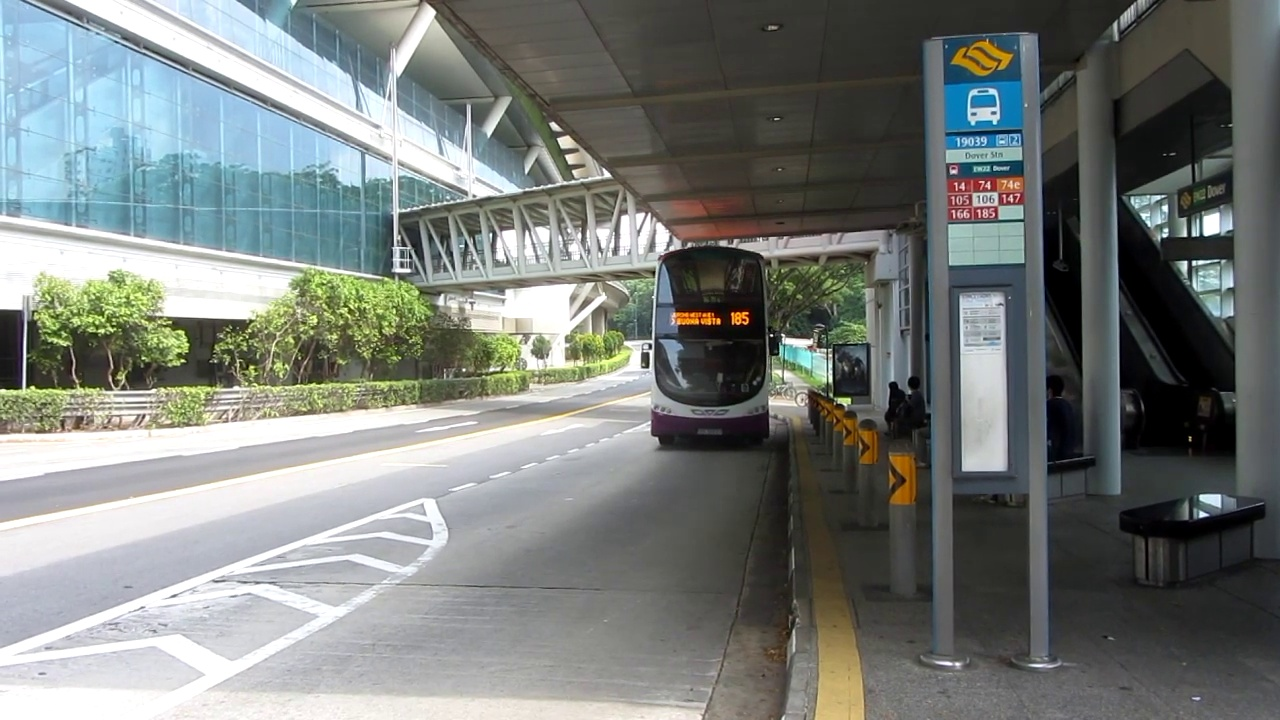bus panel: (668, 310, 754, 328)
